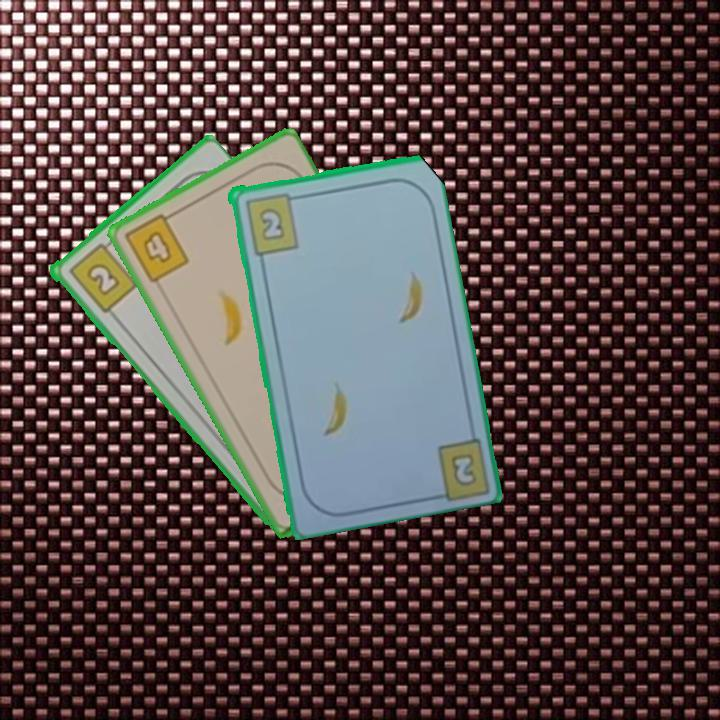2b: (64, 236, 139, 316), (241, 189, 303, 257), (447, 449, 480, 489)
4b: (120, 207, 192, 286)
